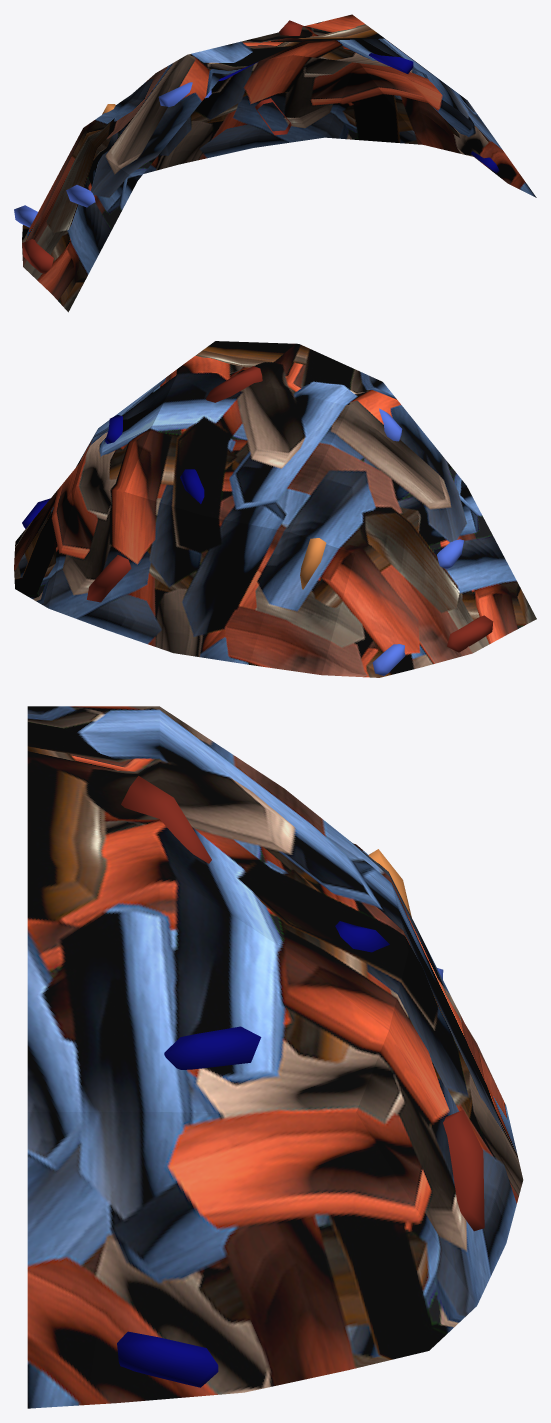
The model's file is PileofShoes_big.fbx.
The picture shows the model from 3 angles, top to bottom: view 1: azimuth 30°, elevation 25°; view 2: azimuth 150°, elevation 25°; view 3: azimuth 270°, elevation 25°; orthographic projection. The views are drawn at different scales.
Parts seen in each view (by area): view 1: mesh_PileofShoes_big; view 2: mesh_PileofShoes_big; view 3: mesh_PileofShoes_big.
Boxes of the visible parts, x1,y1,x2,y2 form: mesh_PileofShoes_big: (14, 14, 536, 312); mesh_PileofShoes_big: (14, 341, 536, 677); mesh_PileofShoes_big: (27, 706, 523, 1408).
Bounding box in the file's own units: 184 × 80.29 × 84.17.
